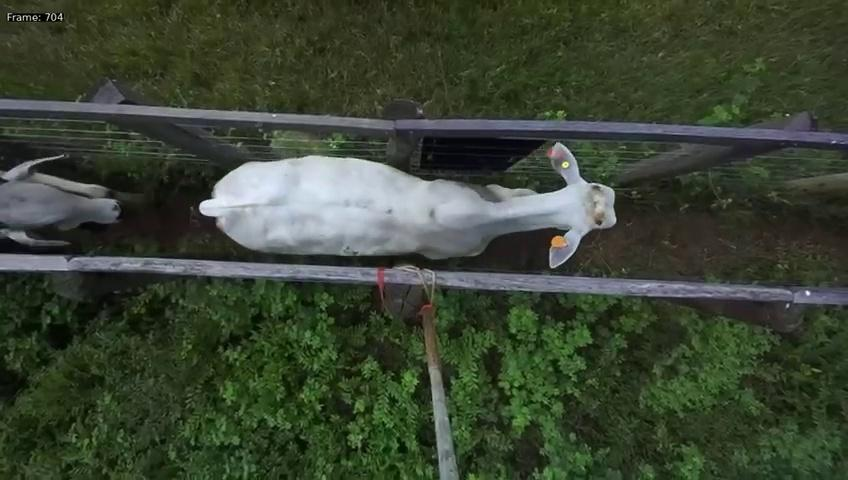cattle: (197, 138, 618, 268)
